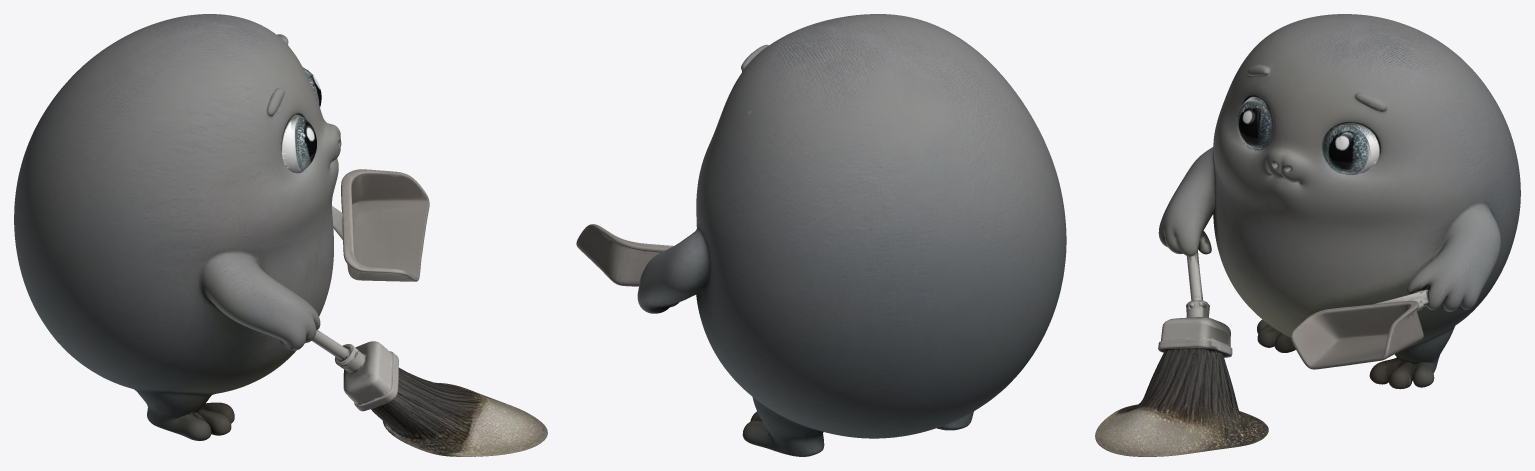
Rendered from dustbunny-dustpan-smoke.glb.
3 views of the same model, side by side, from view 1: azimuth 30°, elevation 25°; view 2: azimuth 150°, elevation 25°; view 3: azimuth 270°, elevation 25° (orthographic). The views are drawn at different scales.
Visible parts, largest first — view 1: node_0; view 2: node_0; view 3: node_0.
Part boxes in pixels (bbox=[...]): node_0: bbox=[14, 14, 547, 456]; node_0: bbox=[576, 14, 1066, 456]; node_0: bbox=[1095, 14, 1520, 456].
Bounding box in the file's own units: 0.7978 × 0.6735 × 0.7885.
Materials: 1 (1 with a texture image).
